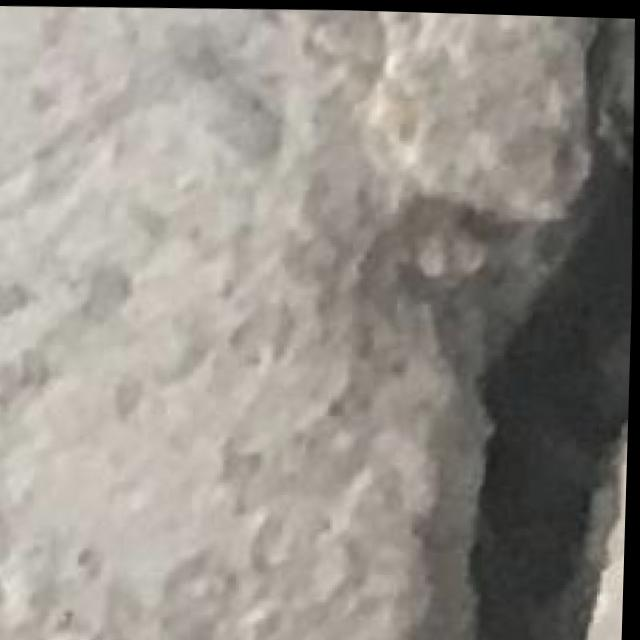Crack: (421, 10, 639, 640)
